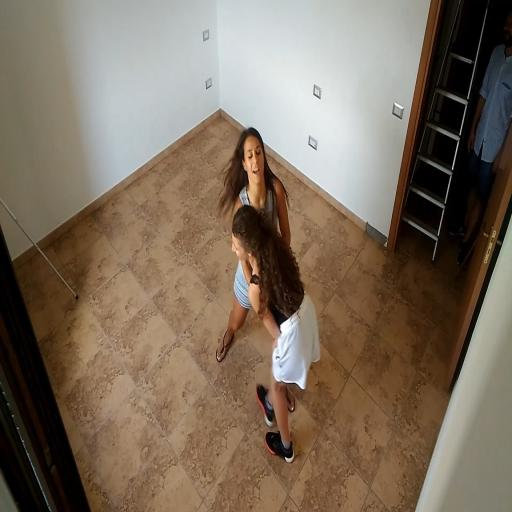imobilizar: (195, 96, 347, 483)
